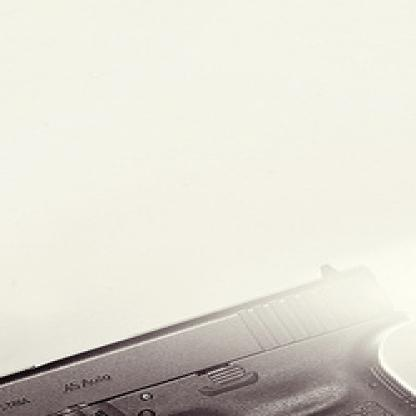gun: (0, 242, 414, 415)
